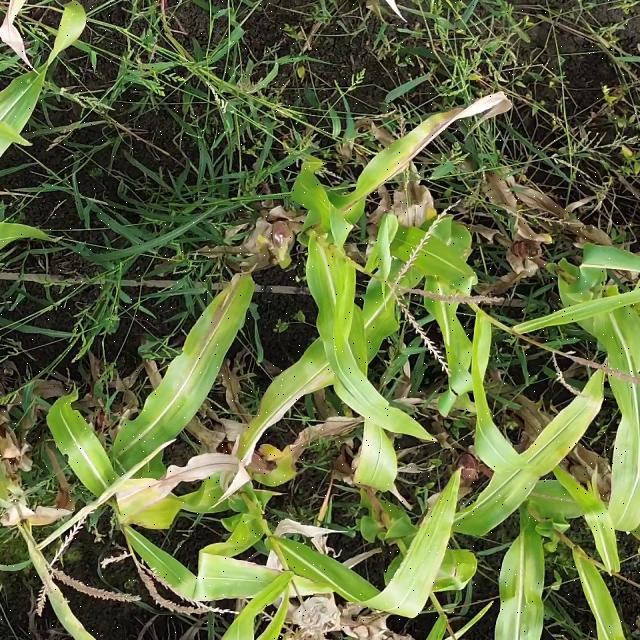northern-leaf-blight: (190, 289, 233, 352), (386, 132, 431, 182), (294, 358, 341, 403)
